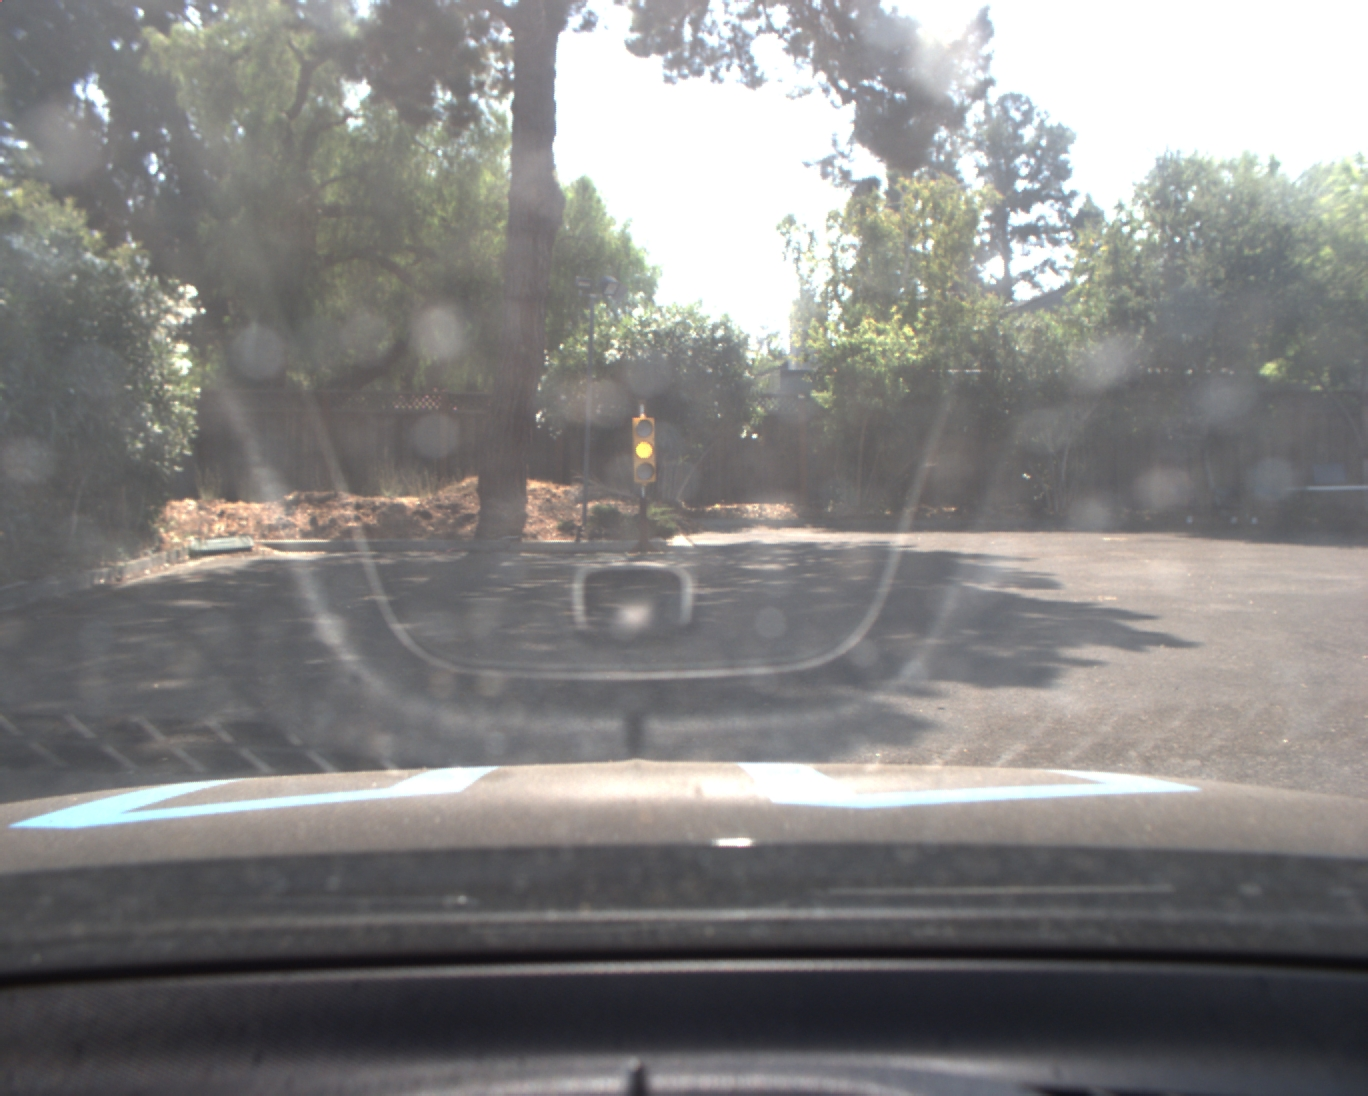yellow: (633, 415, 656, 490)
